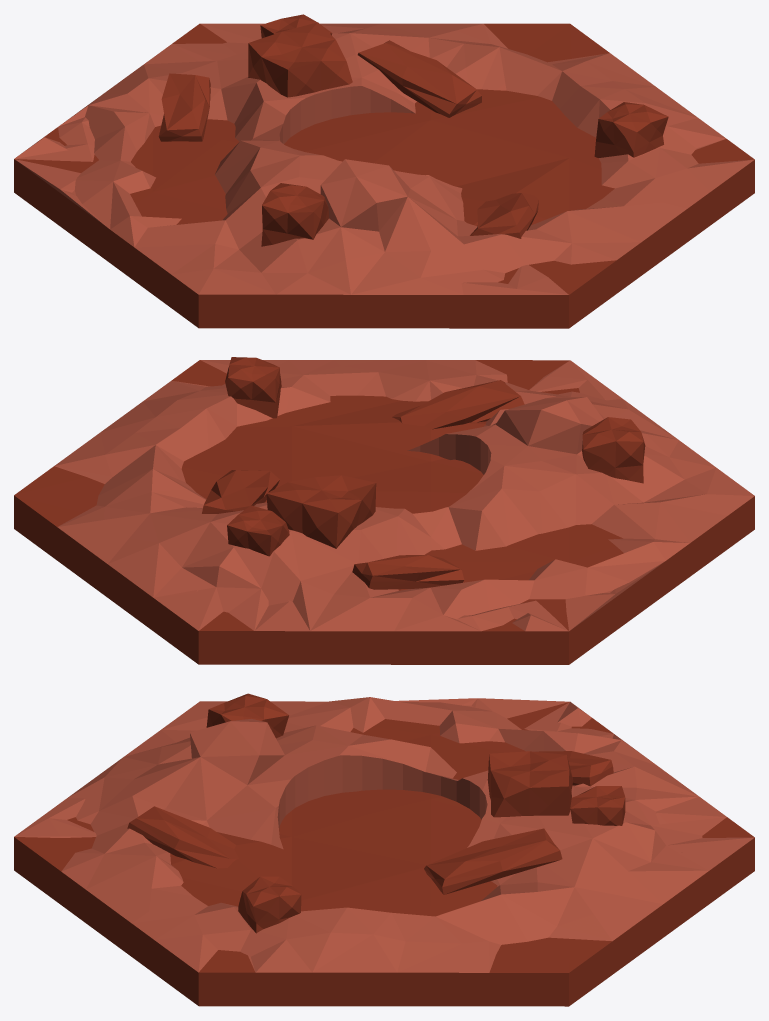
File: brick.fbx
The picture shows the model from 3 angles, top to bottom: view 1: azimuth 30°, elevation 25°; view 2: azimuth 150°, elevation 25°; view 3: azimuth 270°, elevation 25°; orthographic projection.
Visible parts, largest first — view 1: Cylinder.241; view 2: Cylinder.241; view 3: Cylinder.241.
Boxes of the visible parts, box(x1,y1,x2,y2) form: Cylinder.241: box(14, 14, 754, 328); Cylinder.241: box(14, 357, 754, 664); Cylinder.241: box(14, 693, 754, 1006).
Bounding box in the file's own units: 173 × 32.76 × 200.
